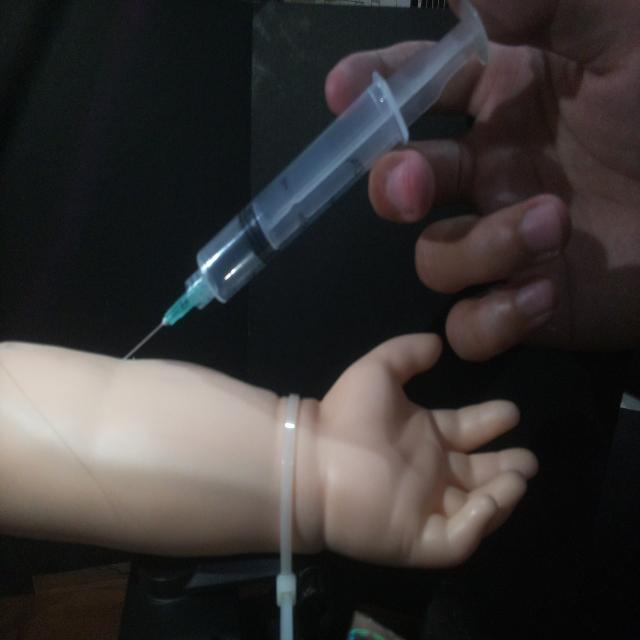30deg: (117, 3, 492, 362)
